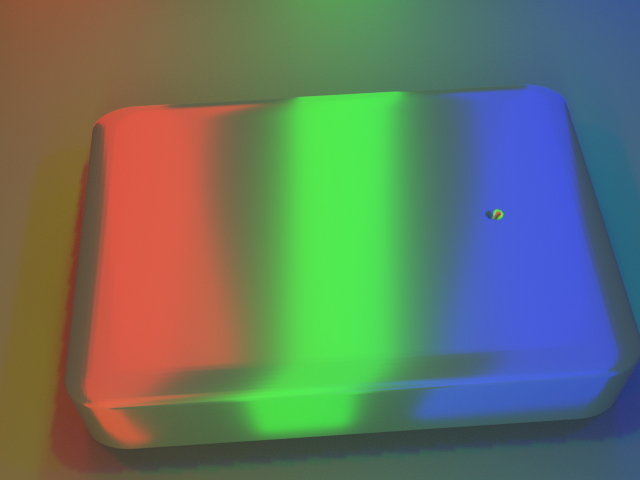dent: (492, 196, 535, 237)
